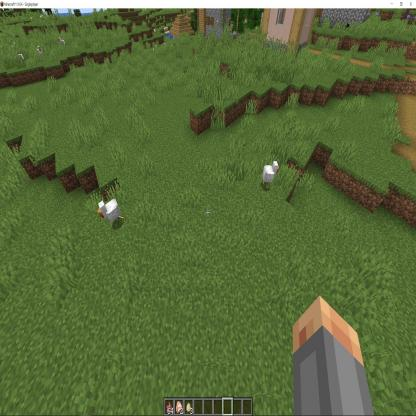minecraft-pigs: (98, 196, 125, 226), (261, 158, 280, 194), (35, 44, 44, 58), (58, 36, 65, 48), (153, 25, 157, 37)
